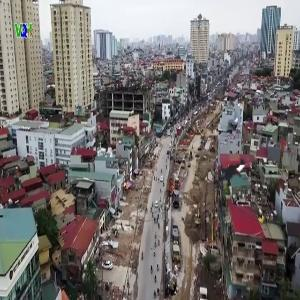drone: (201, 146, 265, 210)
